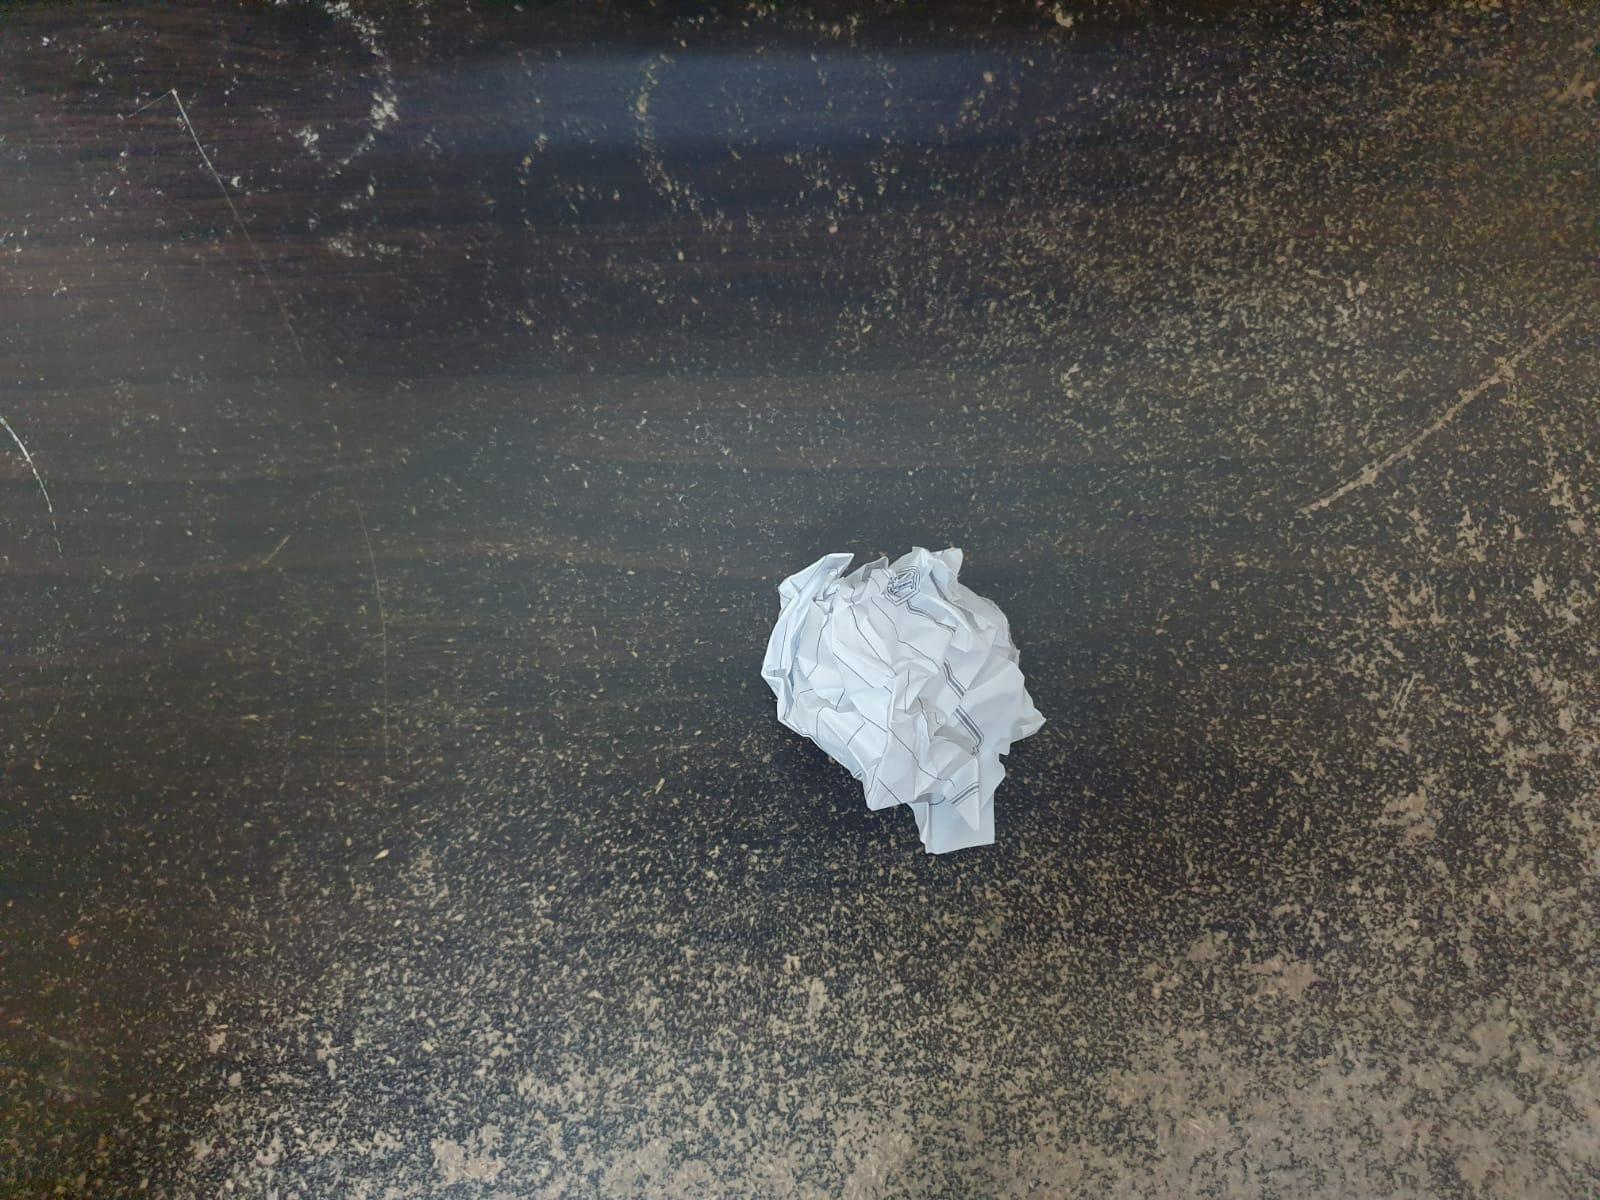Paper: (766, 551, 1045, 853)
